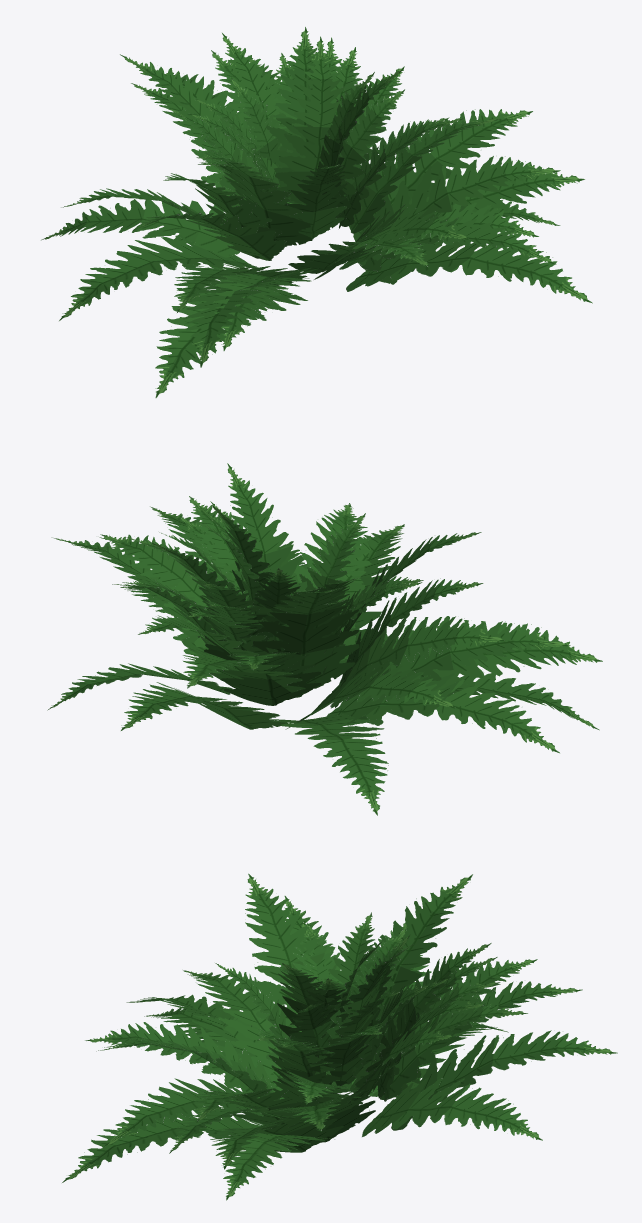
Rendered from plantfiller1.fbx.
3 views of the same model, one above another, from view 1: azimuth 30°, elevation 25°; view 2: azimuth 150°, elevation 25°; view 3: azimuth 270°, elevation 25° (orthographic). The views are drawn at different scales.
Parts seen in each view (by area): view 1: plants3.024; view 2: plants3.024; view 3: plants3.024.
Boxes of the visible parts, x1,y1,x2,y2 form: plants3.024: [41, 27, 592, 397]; plants3.024: [47, 463, 602, 815]; plants3.024: [62, 873, 617, 1200].
Bounding box in the file's own units: 812 × 357 × 822.
